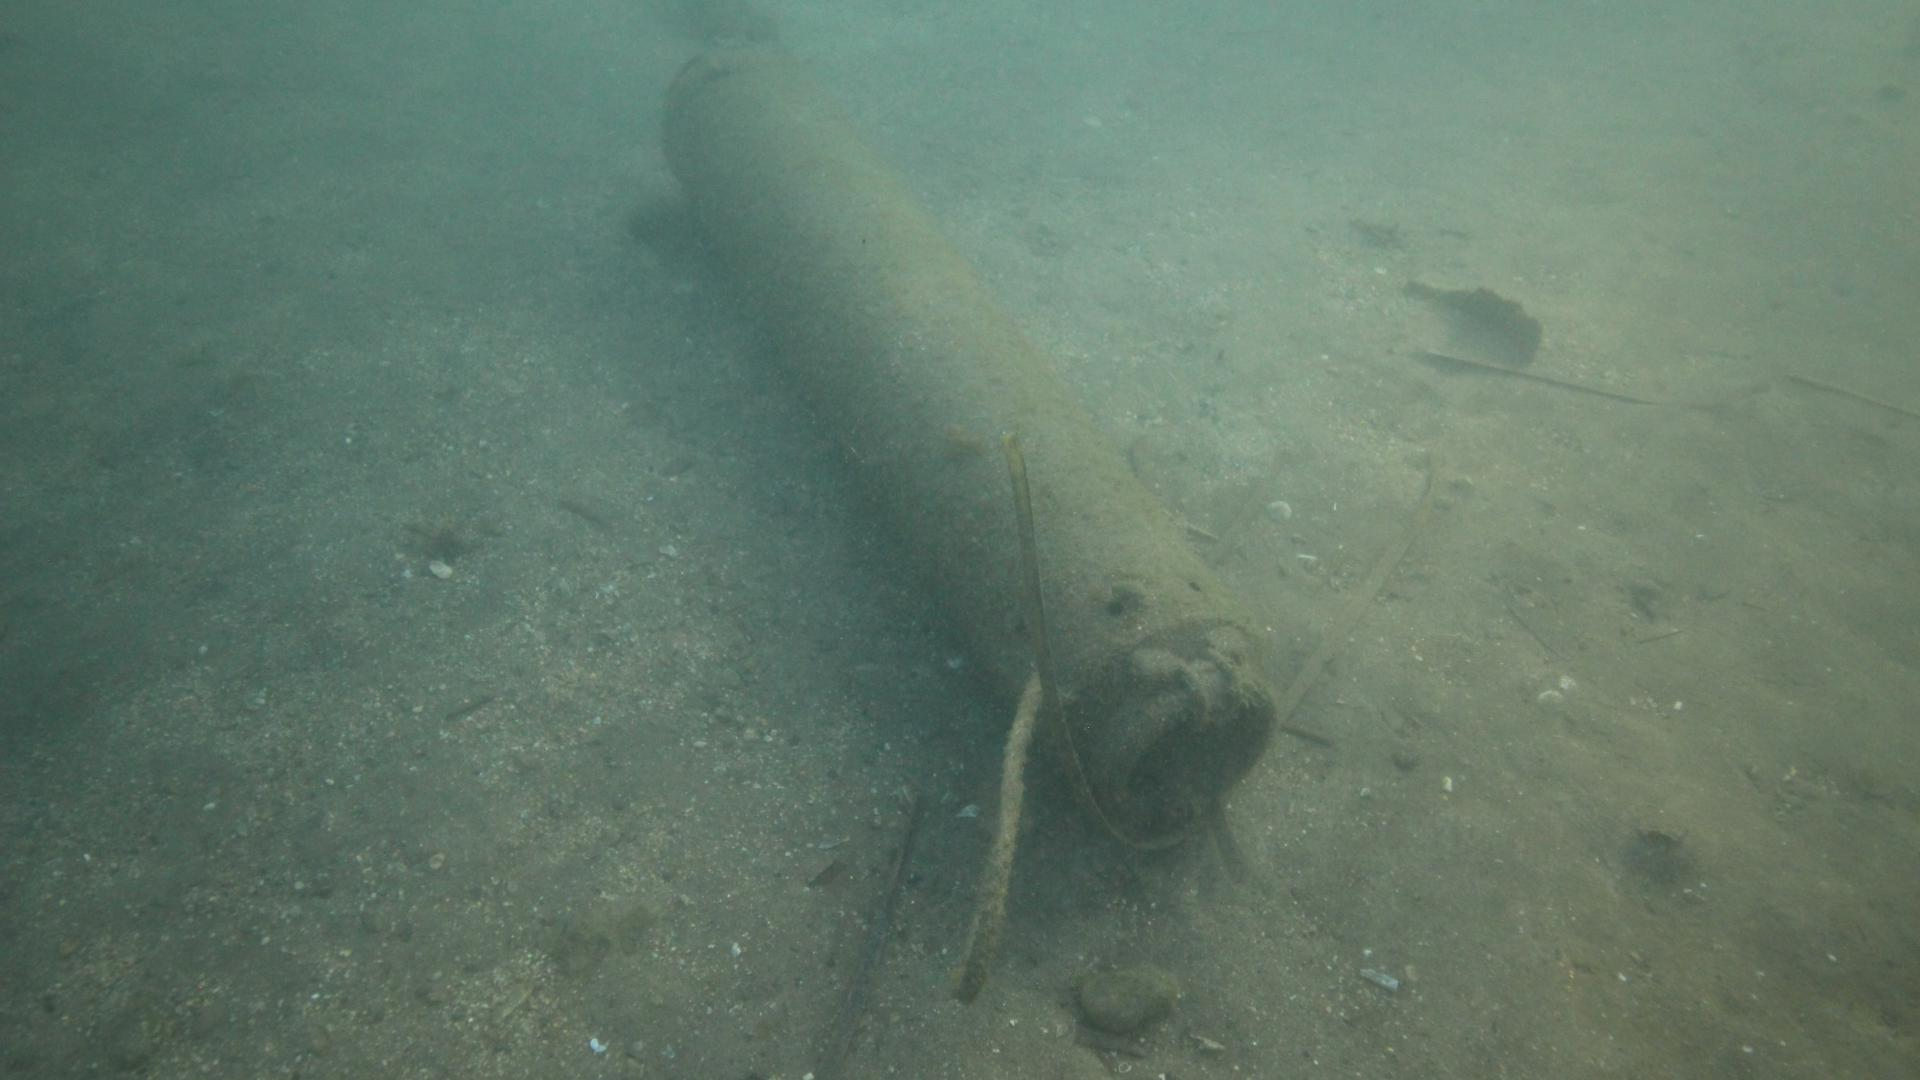eel fish trap: (657, 38, 1280, 851)
rope: (934, 680, 1043, 1002)
